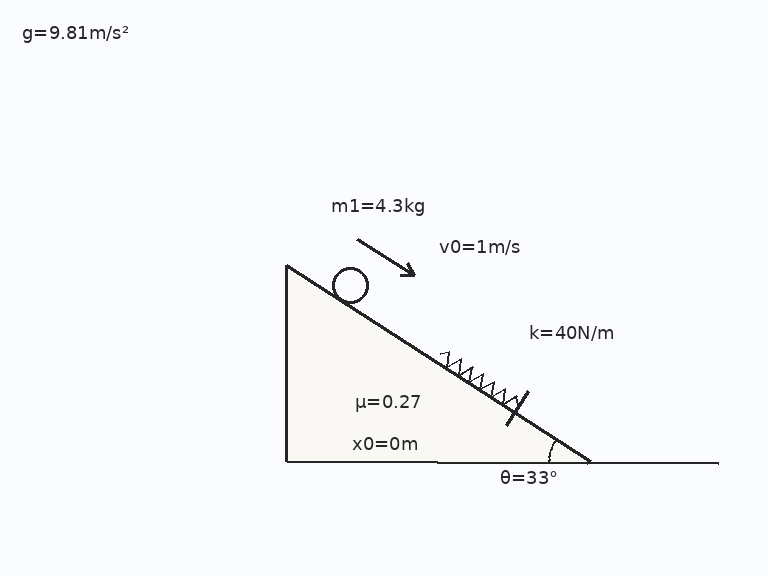ball: (330, 265, 370, 305)
ramp: (284, 263, 591, 464)
spring: (437, 350, 520, 407)
